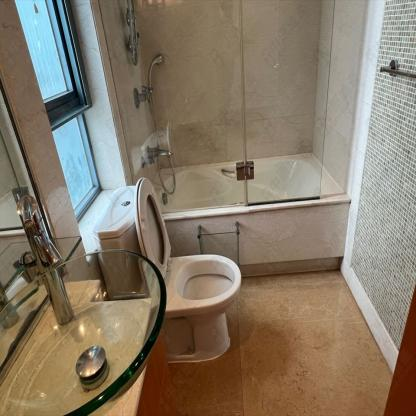Bathtub: (150, 152, 350, 274)
Faucet: (10, 189, 59, 265)
Toilet: (95, 174, 242, 364)
Toilet Sink: (1, 249, 166, 414)
Water Cubicle: (102, 0, 337, 212)
